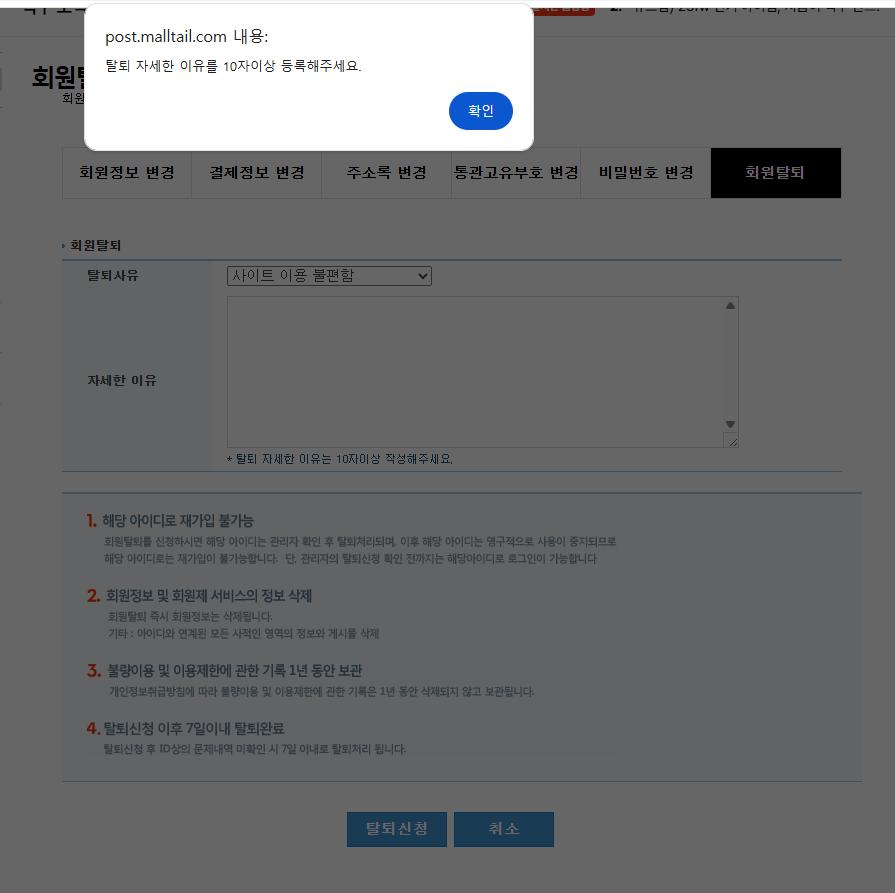button: (713, 146, 841, 198), (588, 143, 709, 197), (451, 155, 585, 189), (328, 158, 434, 192), (199, 156, 315, 187), (348, 811, 446, 846), (456, 813, 554, 847), (446, 88, 515, 130), (81, 161, 179, 186)
checkbox: (228, 265, 433, 285)
input_field: (226, 295, 745, 453)
popup: (87, 0, 537, 151)
